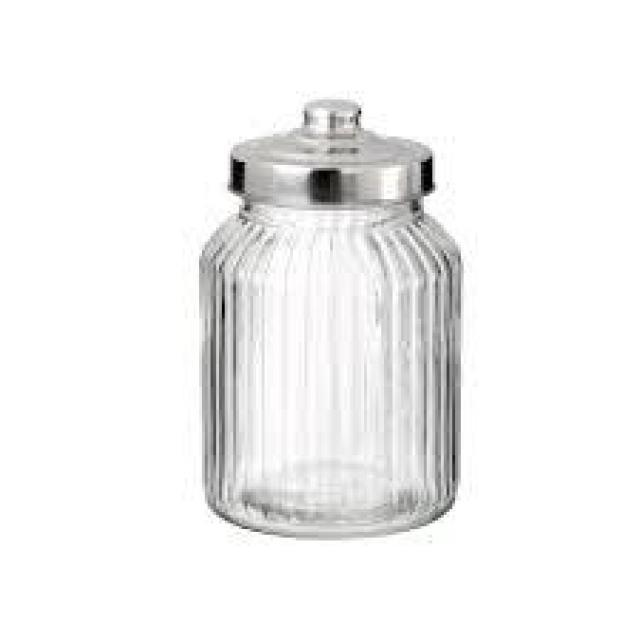Glass: (198, 95, 462, 542)
